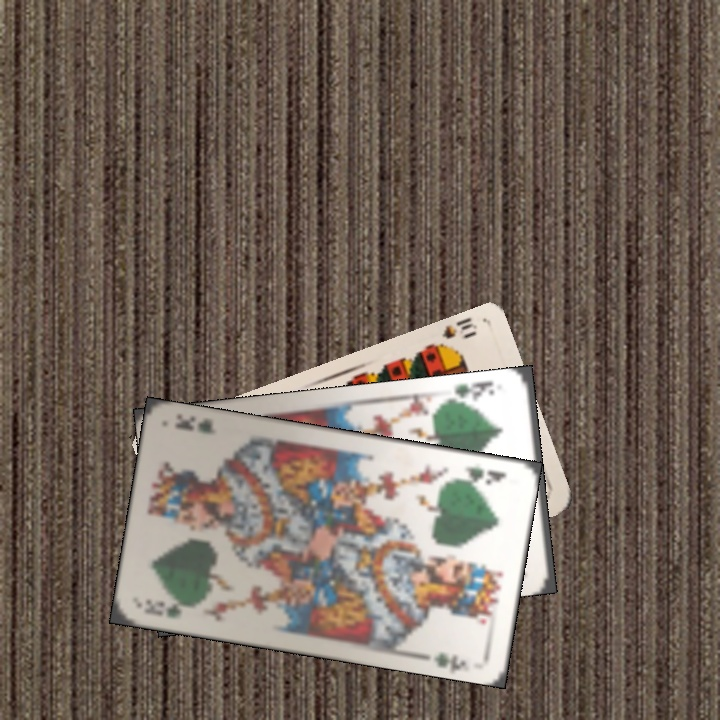GK: (449, 377, 497, 407), (452, 462, 509, 487), (140, 595, 184, 621)
S10: (428, 314, 480, 354)
